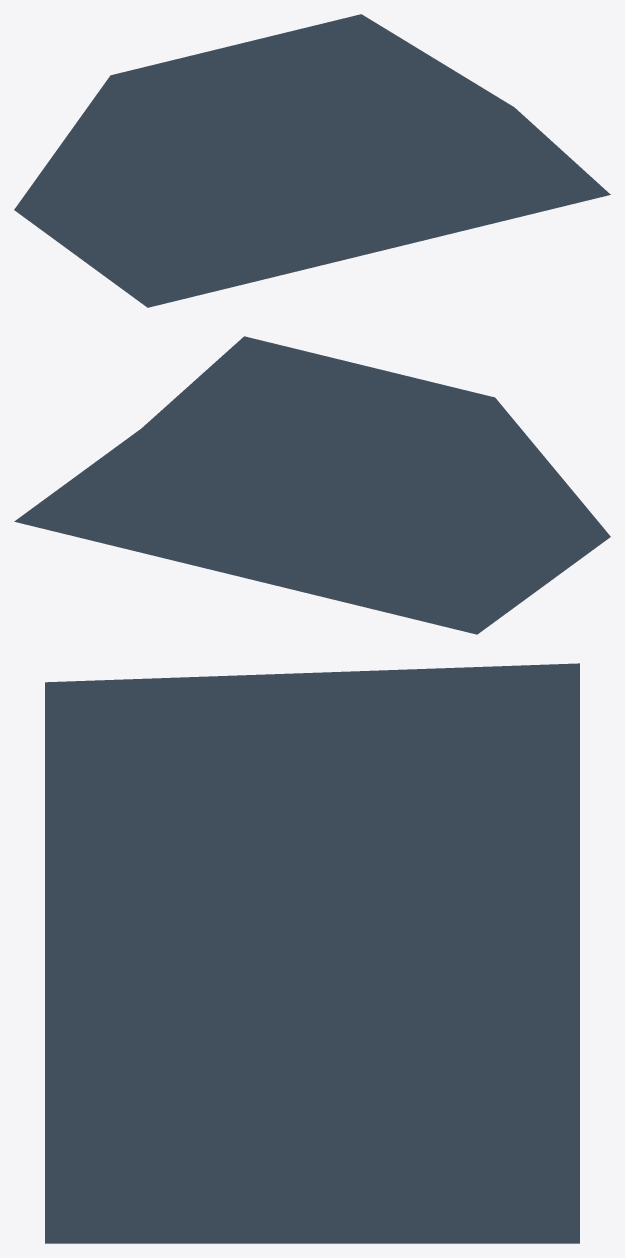
Rendered from dark-horse-draco.gltf.
3 views of the same model, one above another, from view 1: azimuth 30°, elevation 25°; view 2: azimuth 150°, elevation 25°; view 3: azimuth 270°, elevation 25° (orthographic). The views are drawn at different scales.
Size of the model in its own units: 2.4 by 0.55 by 1.2.
